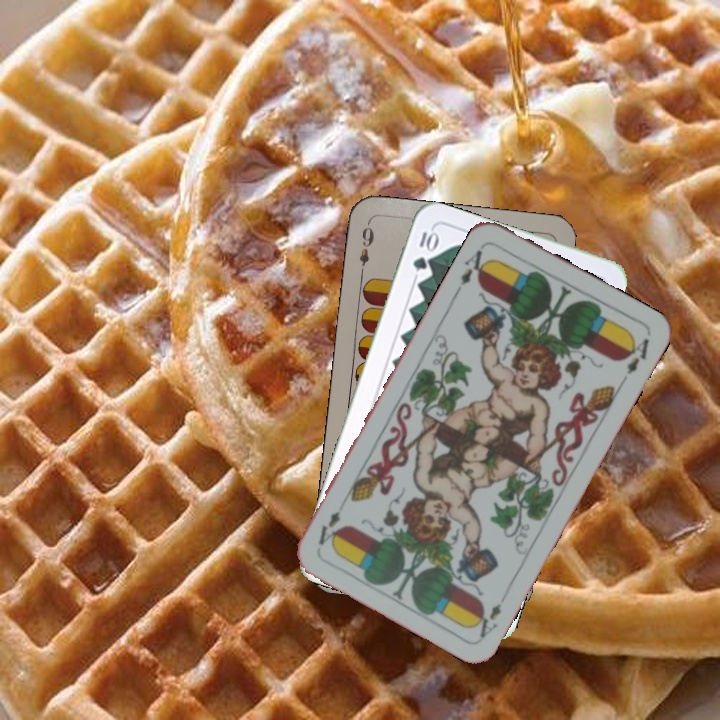E9: (355, 219, 377, 278)
EA: (456, 245, 493, 288), (469, 599, 504, 641)
G10: (408, 226, 440, 273)
